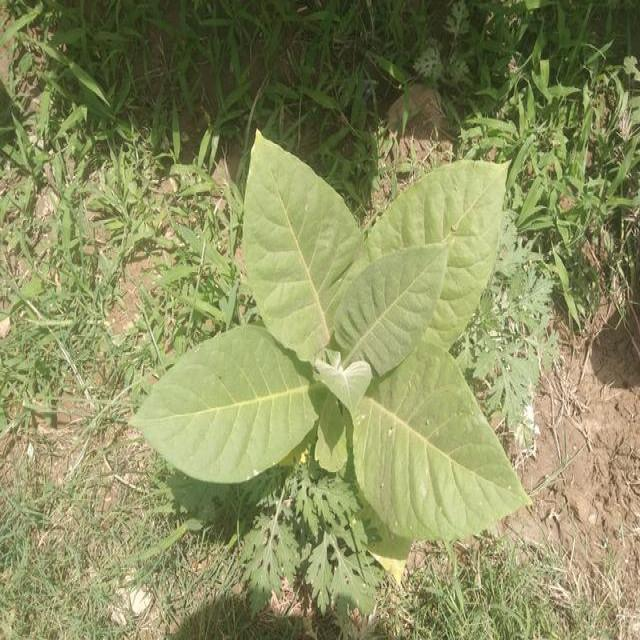crop: (131, 127, 538, 549)
